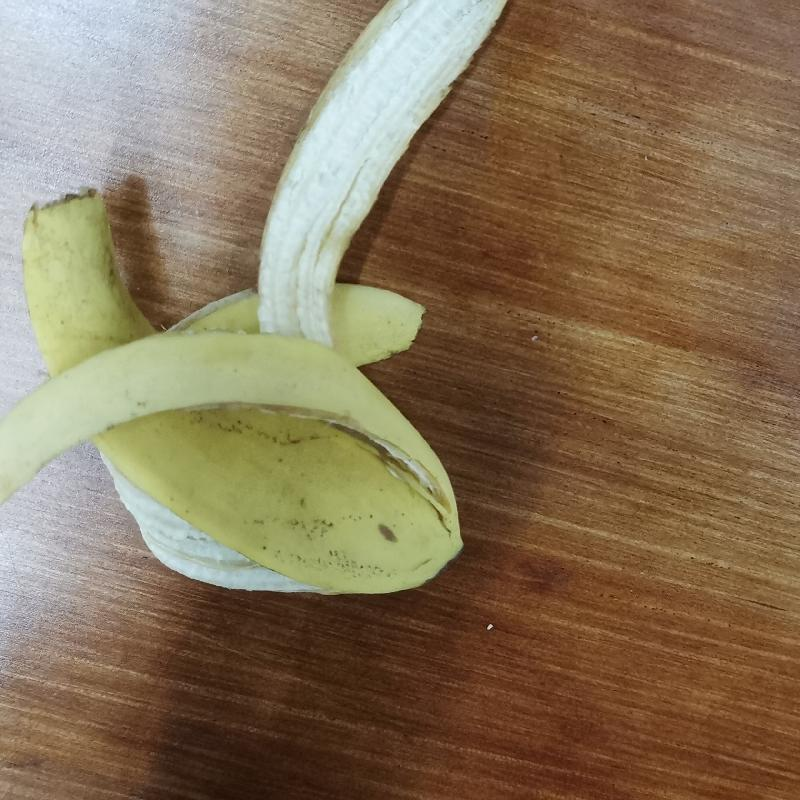bananas: (3, 1, 510, 592)
